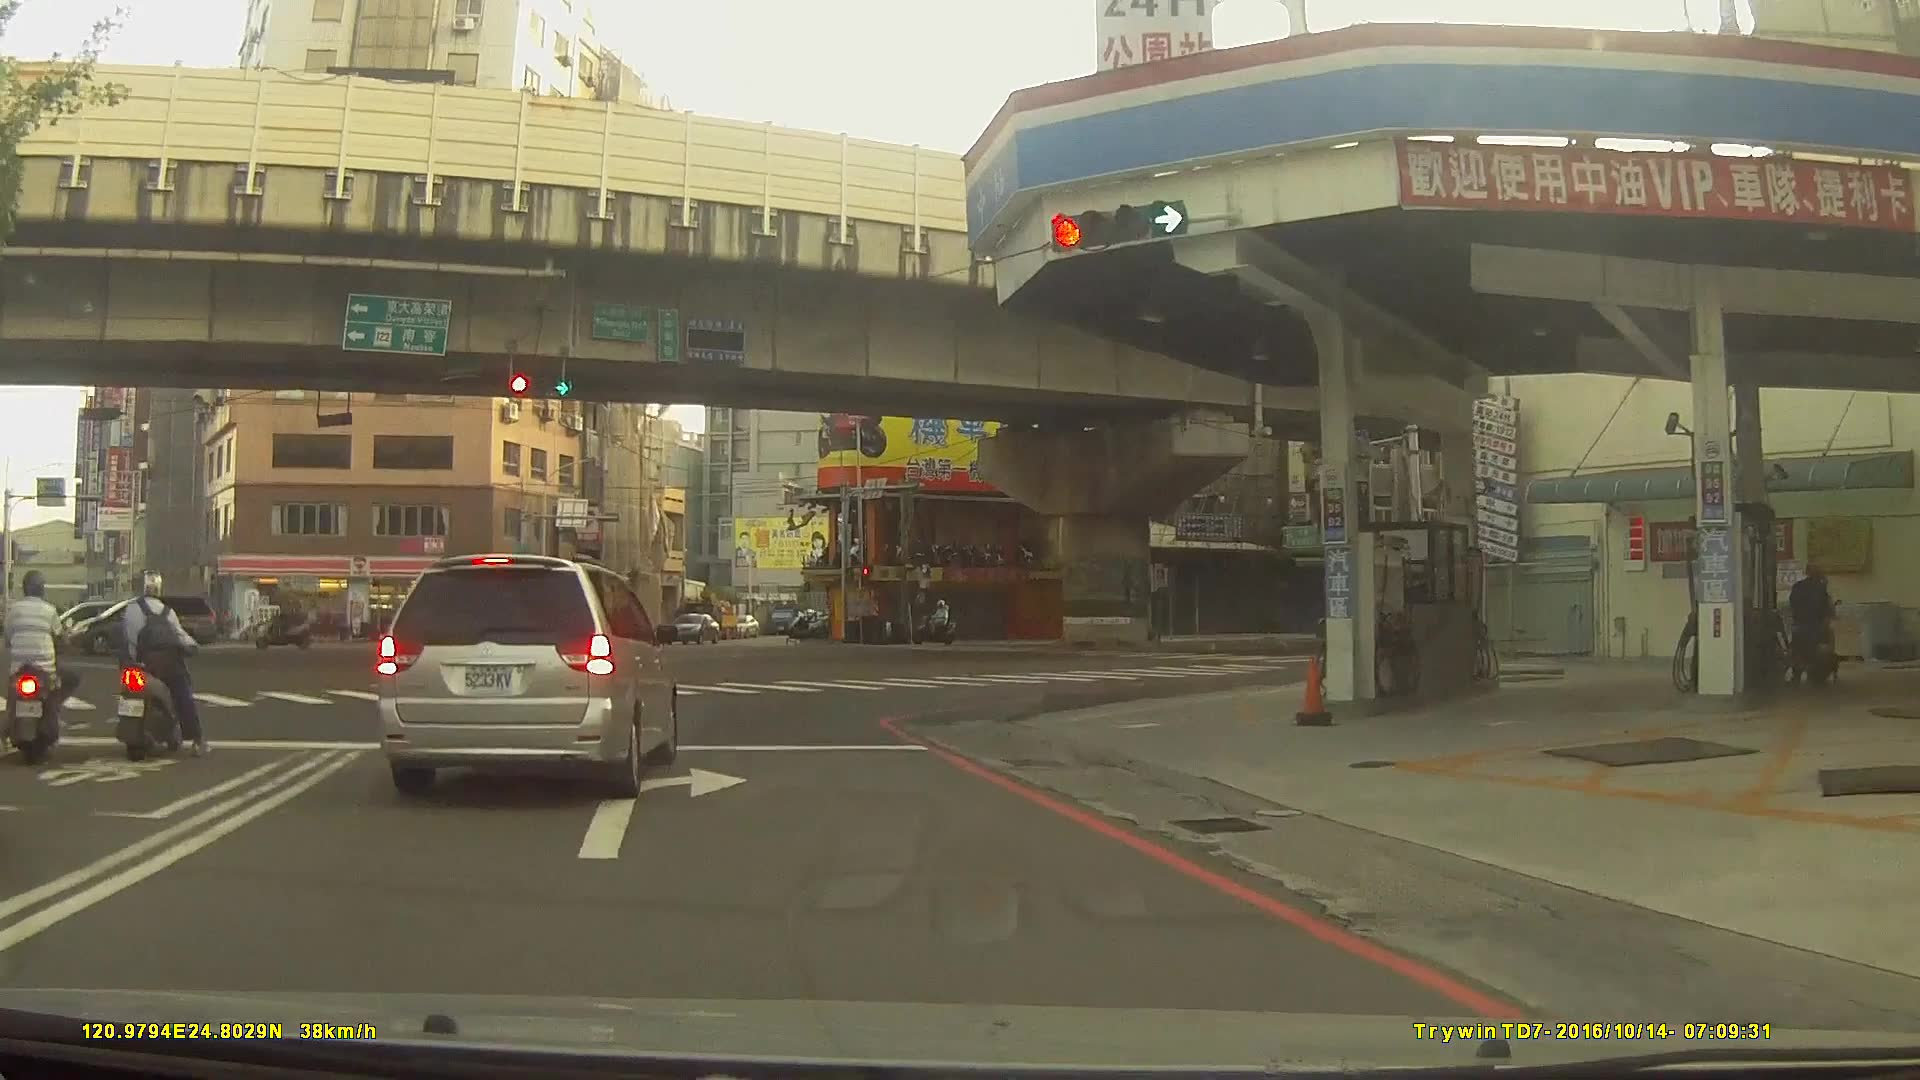rider: (115, 574, 212, 756), (1, 575, 76, 757), (251, 595, 319, 651), (916, 600, 957, 644)
vehicle: (372, 553, 679, 796), (63, 592, 217, 652), (669, 611, 723, 642), (543, 606, 605, 633)
